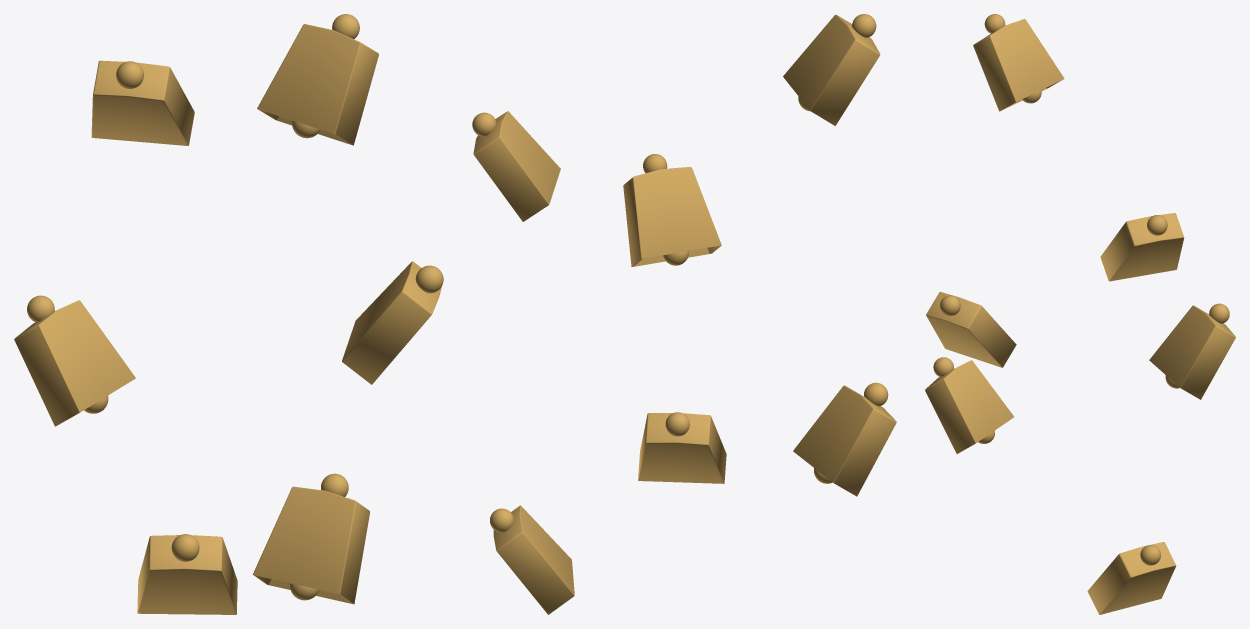
File: bells.glb
3 views of the same model, side by side, from view 1: azimuth 30°, elevation 25°; view 2: azimuth 150°, elevation 25°; view 3: azimuth 270°, elevation 25° (orthographic). The views are drawn at different scales.
Parts seen in each view (by area): view 1: Cube.004, Cube, Cube.002, Cube.001, Cube.005, Cube.003; view 2: Cube.003, Cube.005, Cube.001, Cube, Cube.002, Cube.004; view 3: Cube.001, Cube.005, Cube.002, Cube, Cube.004, Cube.003.
Boxes of the visible parts, x1,y1,x2,y2 form: Cube.004: (253, 473, 369, 604); Cube: (257, 14, 378, 145); Cube.002: (14, 295, 135, 426); Cube.001: (91, 60, 194, 145); Cube.005: (137, 534, 237, 614); Cube.003: (342, 261, 443, 384); Cube.003: (623, 154, 721, 266); Cube.005: (793, 382, 896, 496); Cube.001: (783, 14, 880, 125); Cube: (472, 111, 560, 221); Cube.002: (638, 412, 726, 483); Cube.004: (490, 505, 574, 614); Cube.001: (973, 14, 1064, 111); Cube.005: (925, 357, 1013, 453); Cube.002: (1149, 303, 1235, 399); Cube: (1100, 213, 1184, 281); Cube.004: (1087, 542, 1176, 614); Cube.003: (926, 292, 1016, 367).
Bounding box in the file's own units: 8.61 × 14.76 × 8.43.
